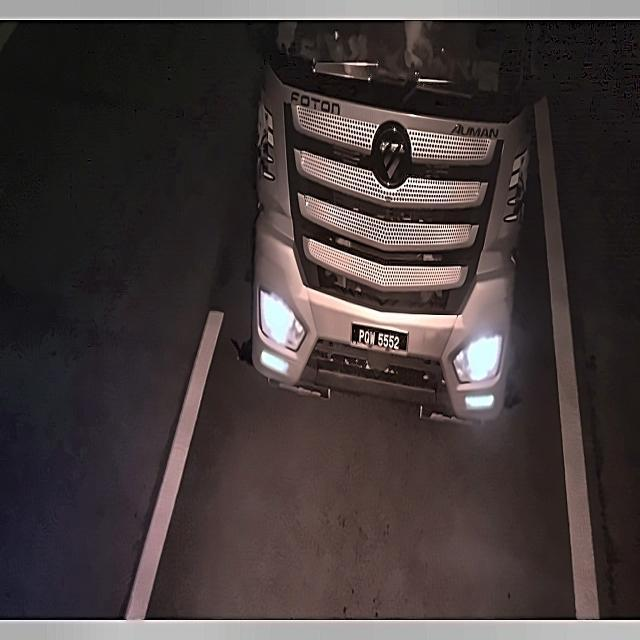car: (344, 307, 414, 362)
